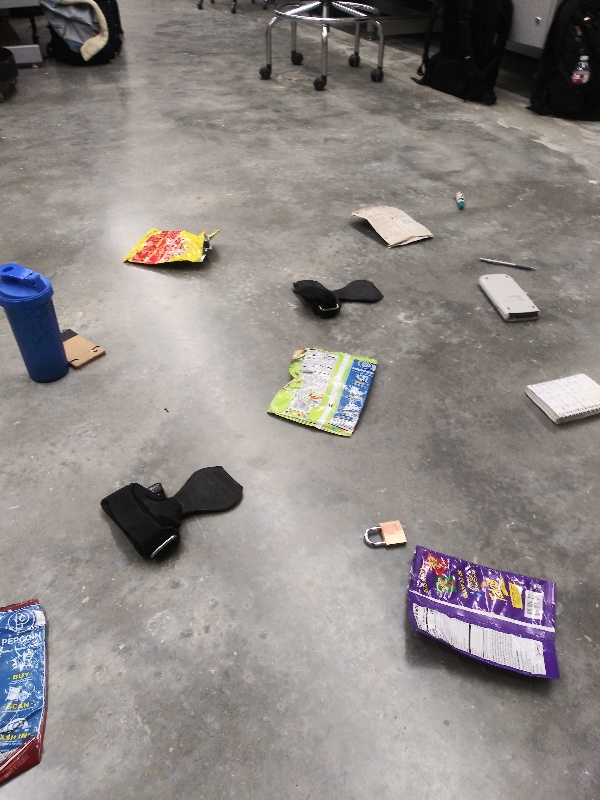bag: (402, 543, 565, 688), (263, 343, 382, 438), (1, 594, 52, 787), (121, 223, 221, 271), (346, 203, 441, 249)
bottle: (568, 54, 594, 87)
